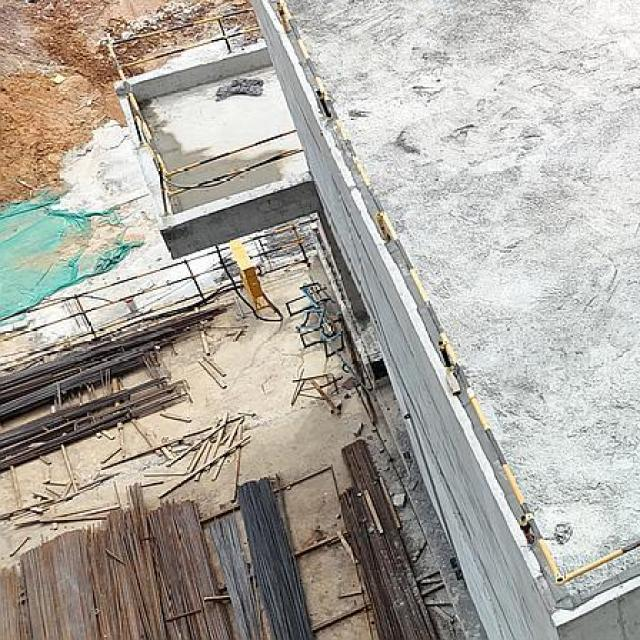edge_guardrail: (274, 0, 640, 589), (112, 48, 305, 215), (125, 92, 305, 215), (106, 6, 261, 81)
